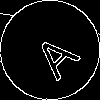A: (25, 25, 82, 81)
